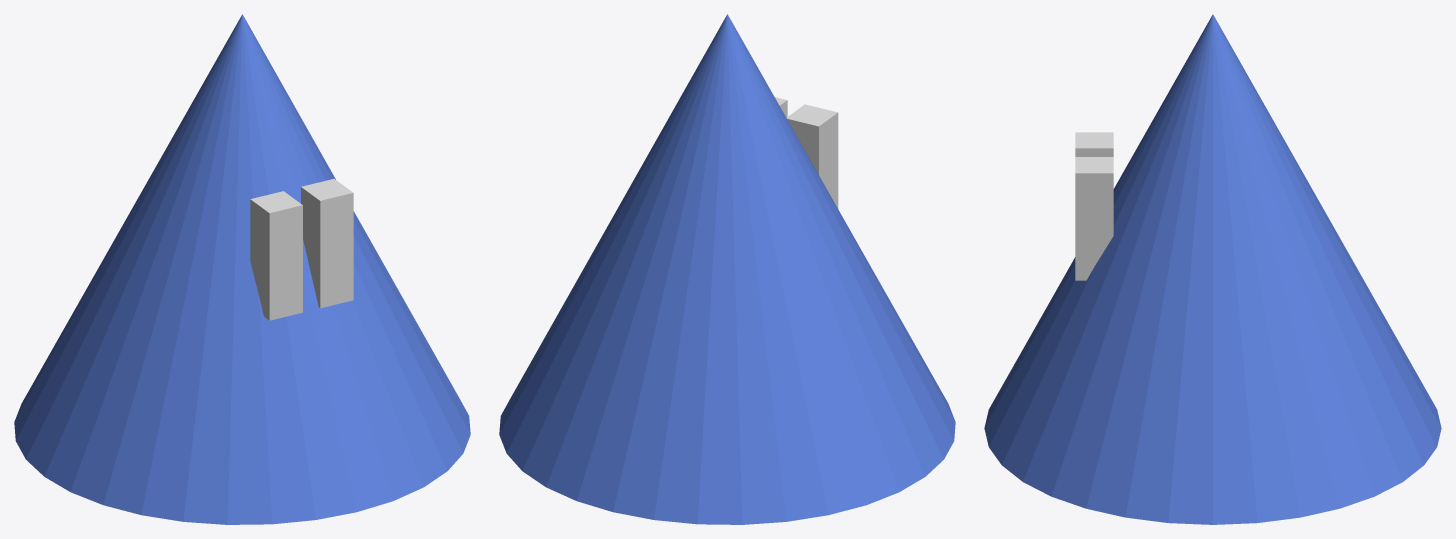
The model's file is blue.fbx.
The picture shows the model from 3 angles, left to right: view 1: azimuth 30°, elevation 25°; view 2: azimuth 150°, elevation 25°; view 3: azimuth 270°, elevation 25°; orthographic projection.
Parts seen in each view (by area): view 1: Cone, Cube.003, Cube.004; view 2: Cone, Cube.003; view 3: Cone, Cube.004, Cube.003.
Boxes of the visible parts, left/top/right/bottom form: Cone: left=14, top=14, right=470, bottom=524; Cube.003: left=250, top=191, right=302, bottom=320; Cube.004: left=301, top=179, right=353, bottom=308; Cone: left=499, top=14, right=955, bottom=524; Cube.003: left=786, top=104, right=838, bottom=208; Cone: left=984, top=14, right=1441, bottom=524; Cube.004: left=1075, top=157, right=1113, bottom=280; Cube.003: left=1075, top=132, right=1113, bottom=156.
Size of the model in its own units: 576 by 576 by 576.
